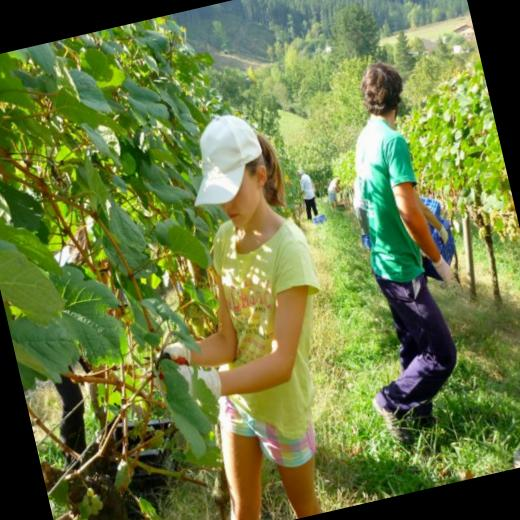Orange: (70, 484, 106, 520), (178, 292, 206, 337), (490, 201, 520, 243), (480, 208, 492, 228), (477, 228, 488, 238)
